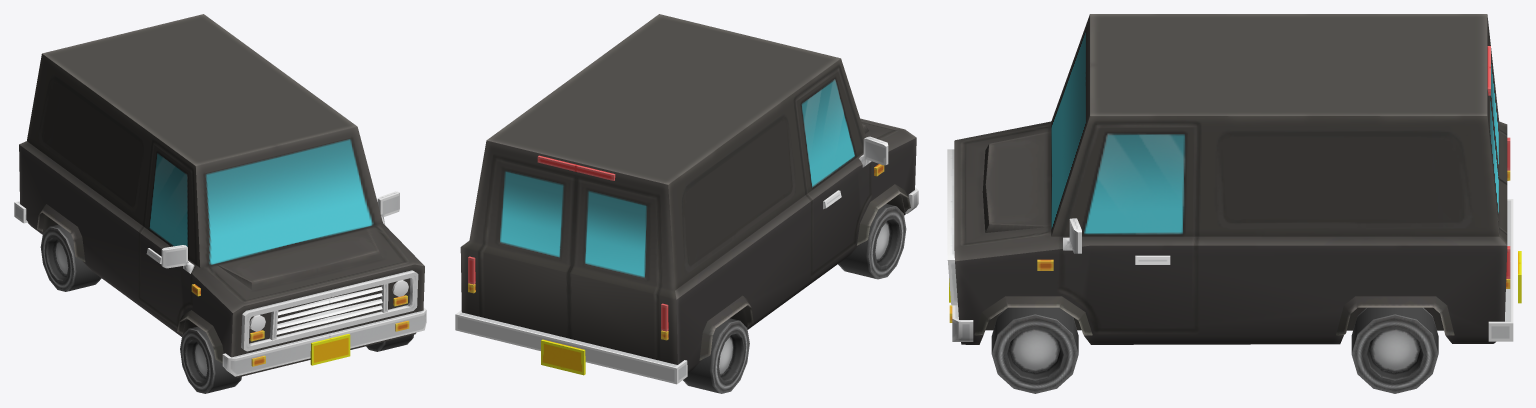
Rendered from car black.fbx.
3 renders of one model, left to right at view 1: azimuth 30°, elevation 25°; view 2: azimuth 150°, elevation 25°; view 3: azimuth 270°, elevation 25°, orthographic. The views are drawn at different scales.
Visible parts, largest first — view 1: Car black, WheerBR Car black, WheerFR Car black, WheerFL Car black; view 2: Car black, WheerBR Car black, WheerFR Car black; view 3: Car black, WheerBL Car black, WheerFL Car black.
Boxes of the visible parts, <box> form: Car black: <box>14,14,426,377</box>; WheerBR Car black: <box>40,224,101,291</box>; WheerFR Car black: <box>180,326,241,393</box>; WheerFL Car black: <box>366,334,413,351</box>; Car black: <box>455,14,918,384</box>; WheerBR Car black: <box>683,318,749,393</box>; WheerFR Car black: <box>838,203,906,279</box>; Car black: <box>947,14,1521,344</box>; WheerBL Car black: <box>1351,307,1438,393</box>; WheerFL Car black: <box>991,307,1078,393</box>.
Bounding box in the file's own units: 89.28 × 73.95 × 145.
